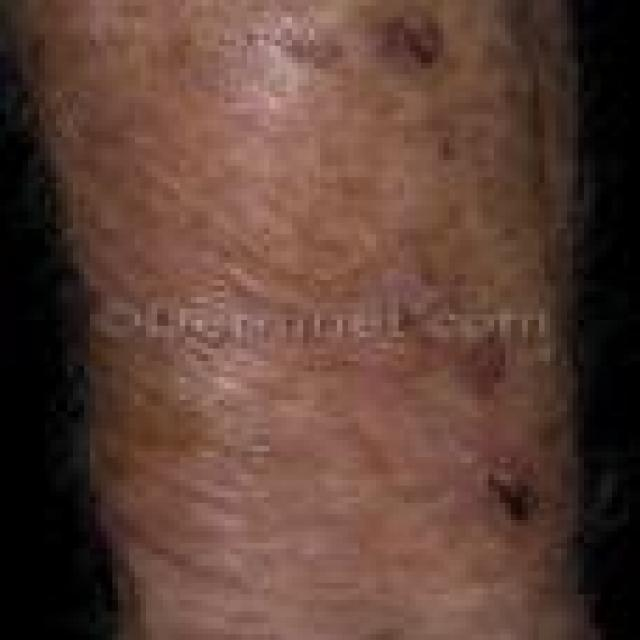Melasma: (21, 8, 559, 460)
